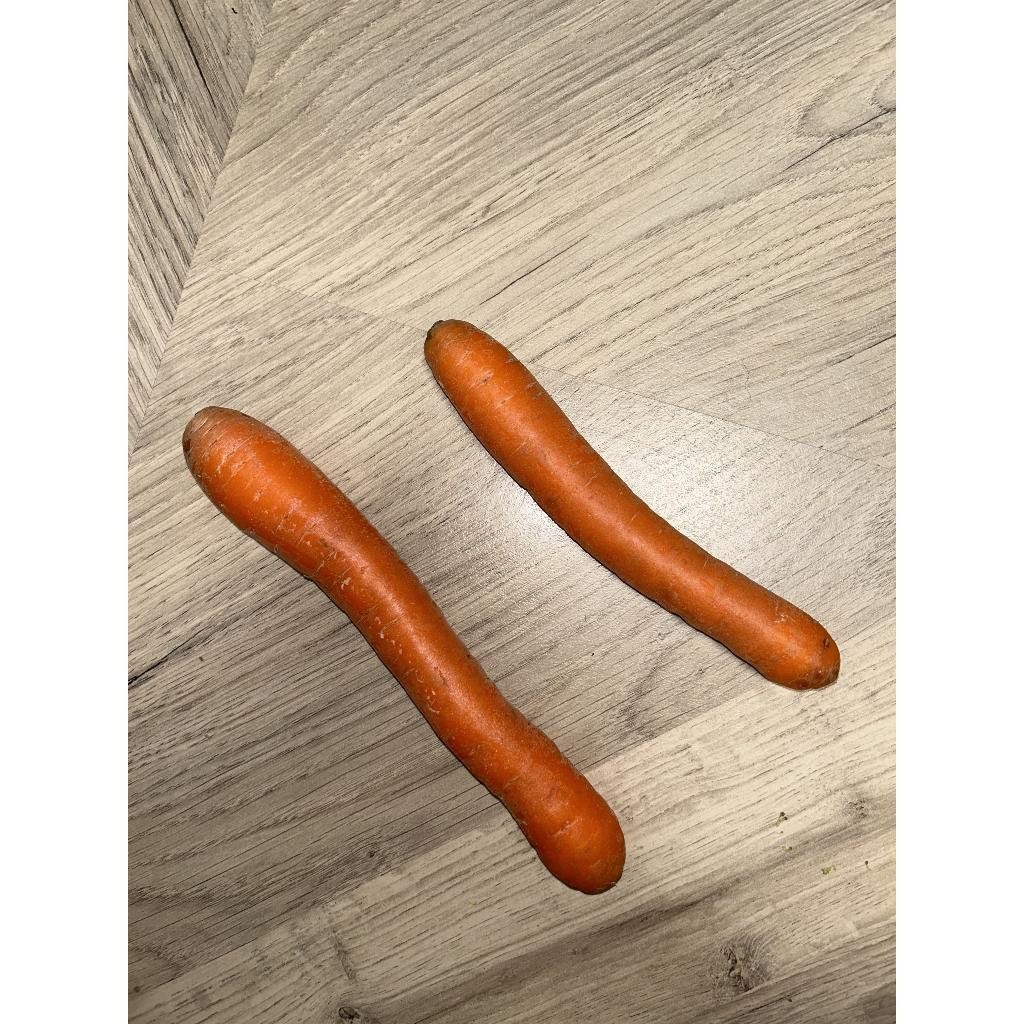carrot: (181, 408, 626, 898), (423, 322, 842, 693)
